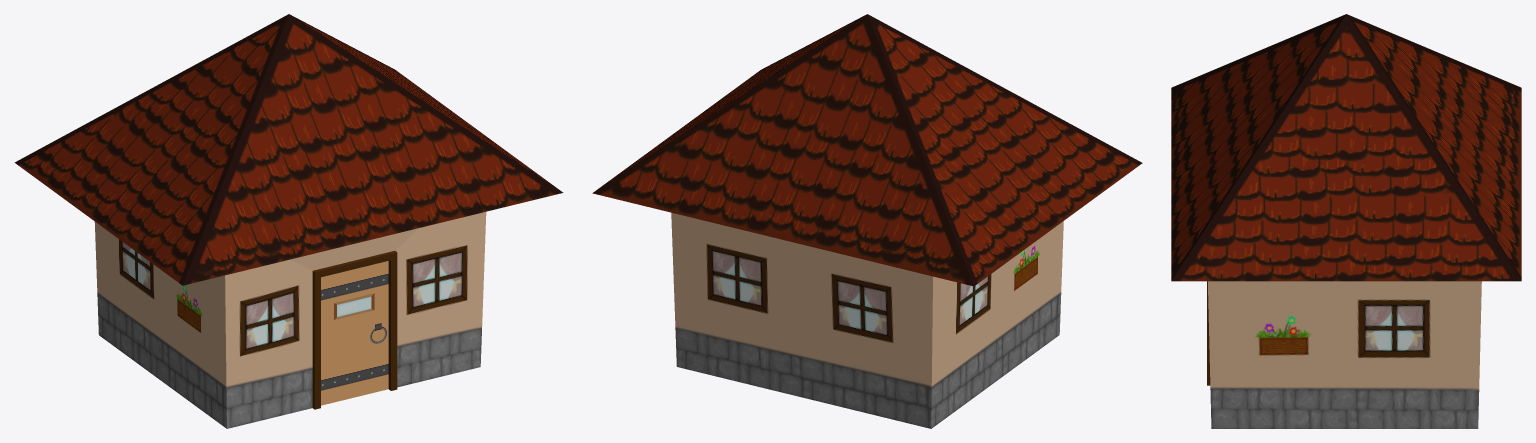
File: smlHouse2.FBX
3 renders of one model, left to right at view 1: azimuth 30°, elevation 25°; view 2: azimuth 150°, elevation 25°; view 3: azimuth 270°, elevation 25°, orthographic. The views are drawn at different scales.
Visible parts, largest first — view 1: HousseRoof, houseBase; view 2: HousseRoof, houseBase; view 3: HousseRoof, houseBase.
Part boxes in pixels (box(x1,y1,x2,y2)): HousseRoof: box(14, 14, 563, 285); houseBase: box(94, 212, 486, 428); HousseRoof: box(592, 14, 1142, 286); houseBase: box(671, 212, 1063, 428); HousseRoof: box(1171, 14, 1521, 281); houseBase: box(1207, 281, 1481, 428).
Size of the model in its own units: 244 by 187 by 206.
Materials: 1 (1 with a texture image).
